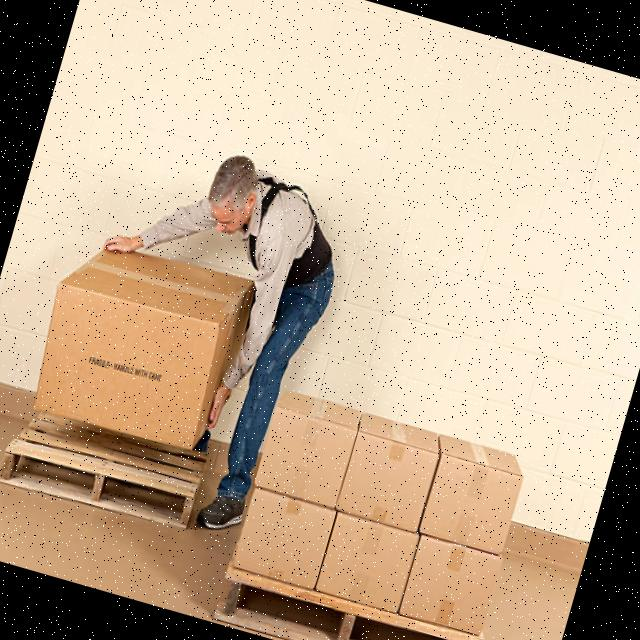Wooden-Pallets: (0, 433, 202, 532), (212, 571, 484, 640)
